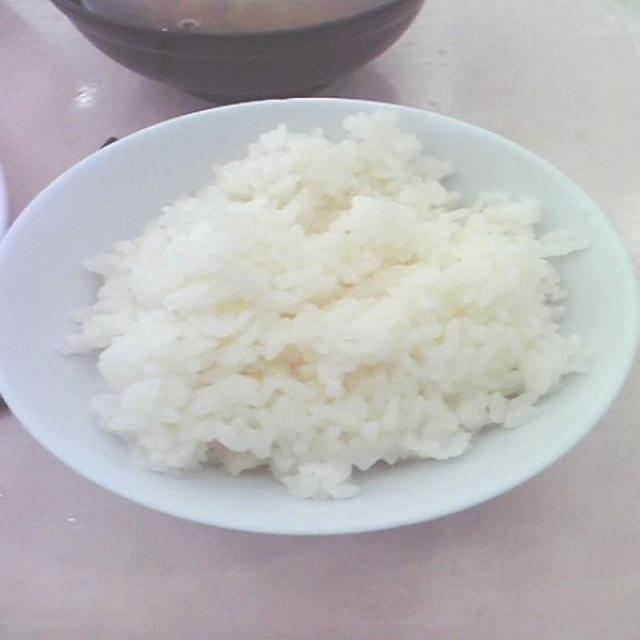rice: (66, 107, 594, 500)
